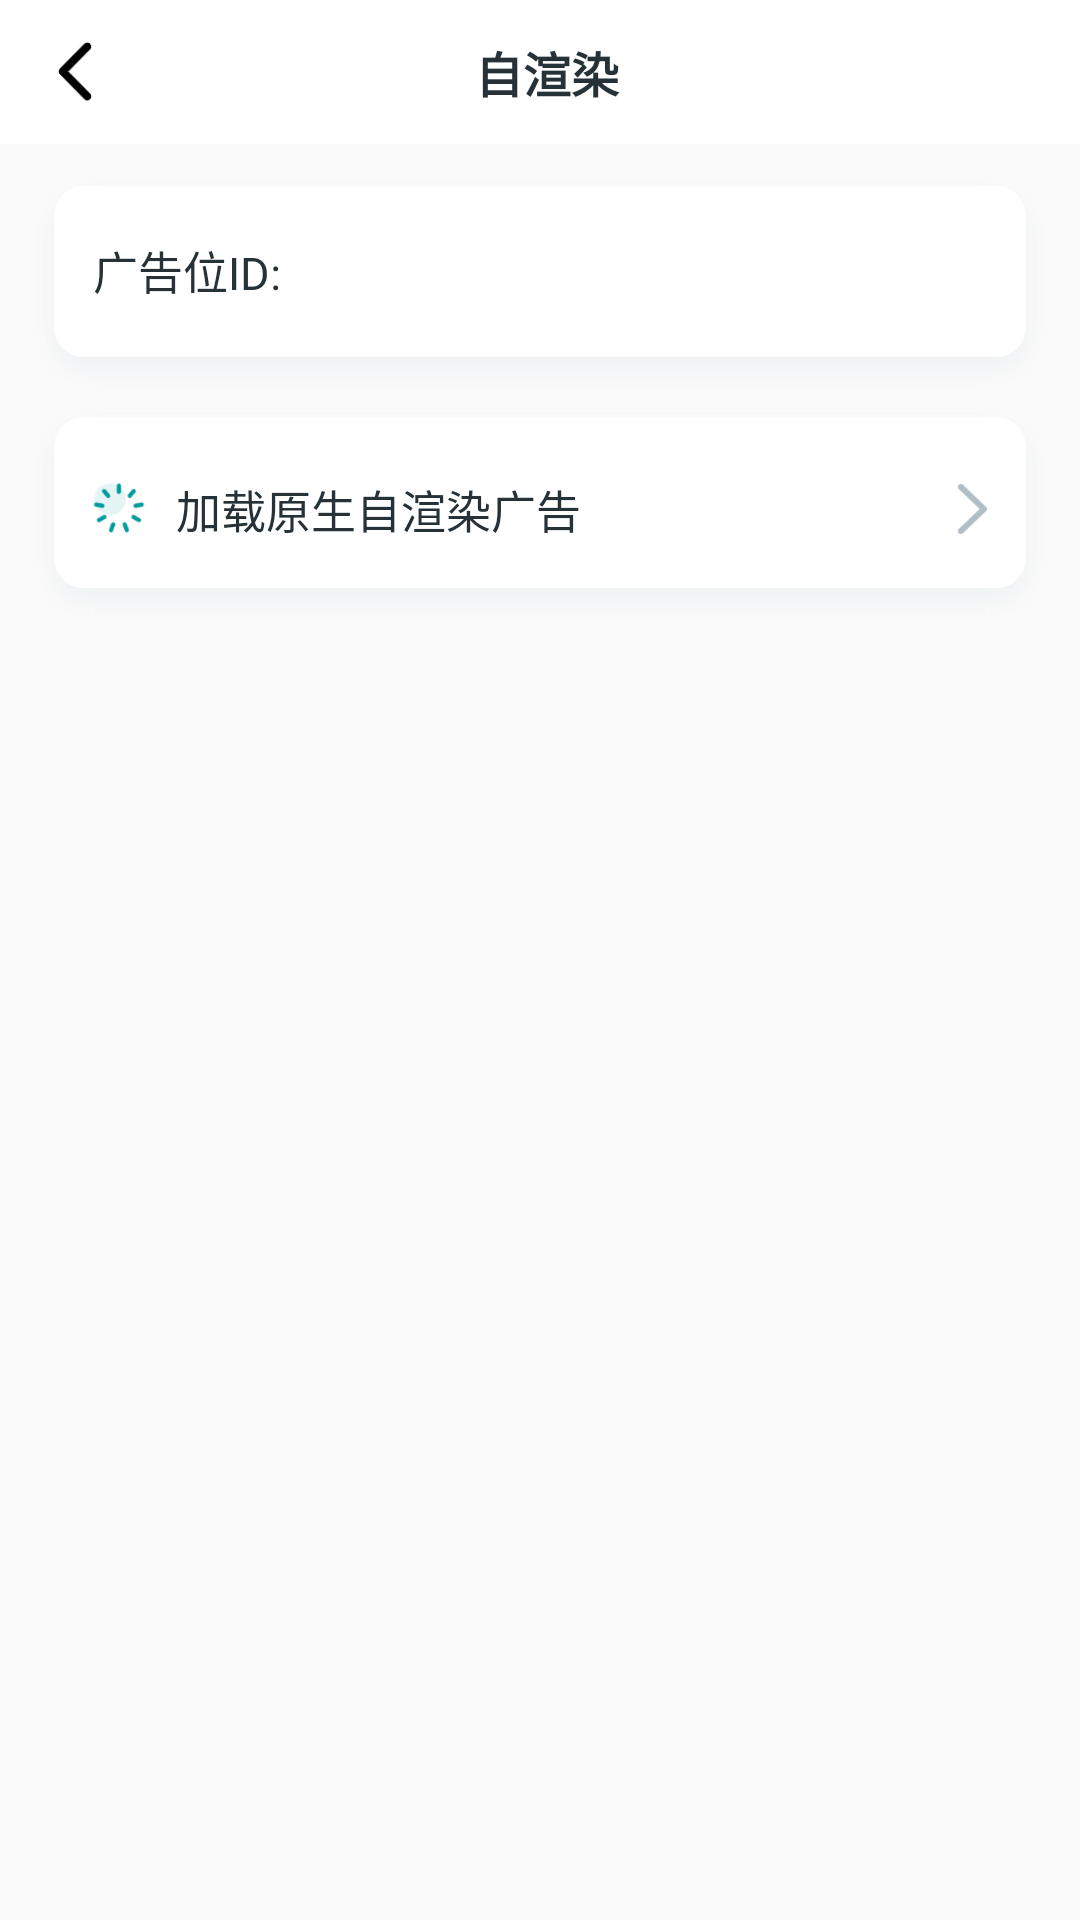

Icons on this 1080w x 1920h Android screen, each with the point to tap as (x=x, y=y):
back: (x=75, y=71)
